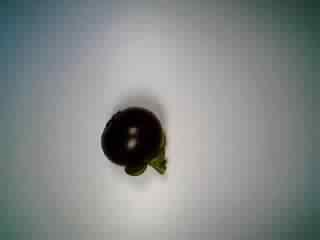mangosteen: (98, 103, 173, 183)
